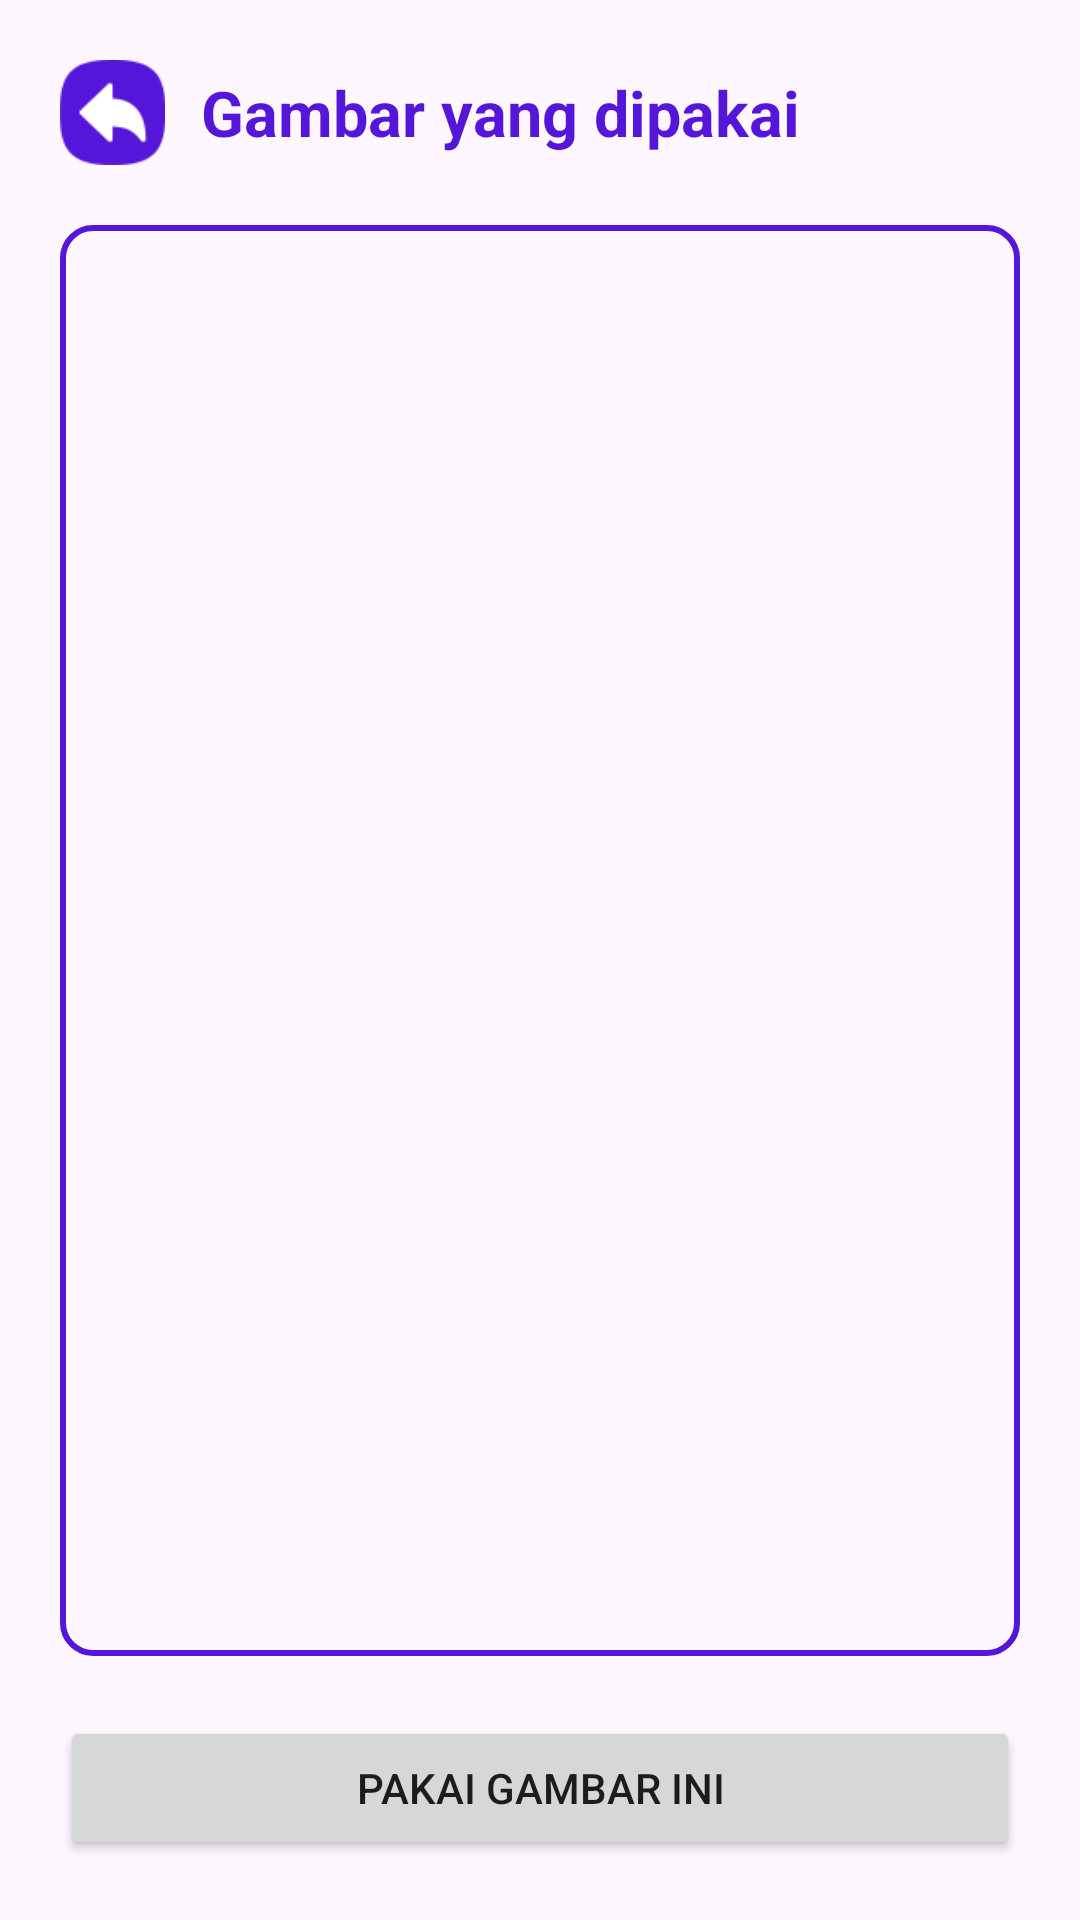

Named icons in this screenshot (1080 x 1920) and their centers, (x=x, y=y):
back: (x=112, y=112)
